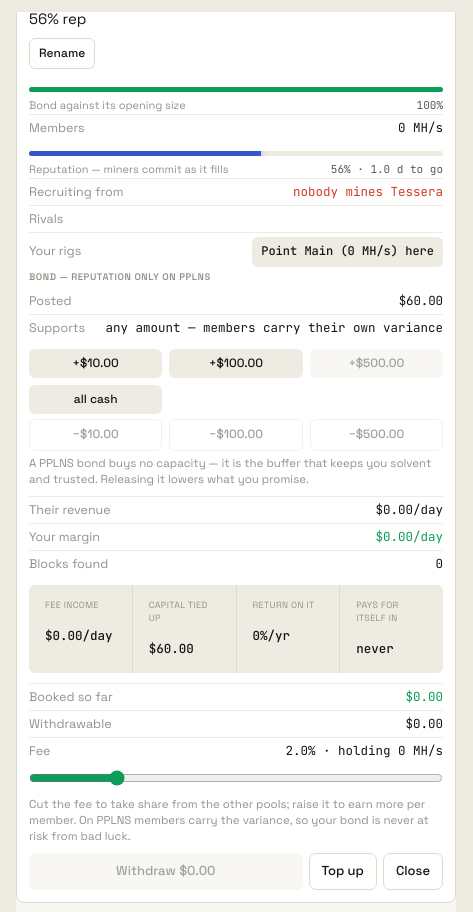
MyPoolCard › drops the fee draft on cancel, leaving the live fee alone
This screenshot has width=473, height=912.
(page scrolled)
Set the slider named "Fee for Your Tessera pool" to "0.08" at (355, 778), box top-left (29, 770), bottom-right (443, 786)
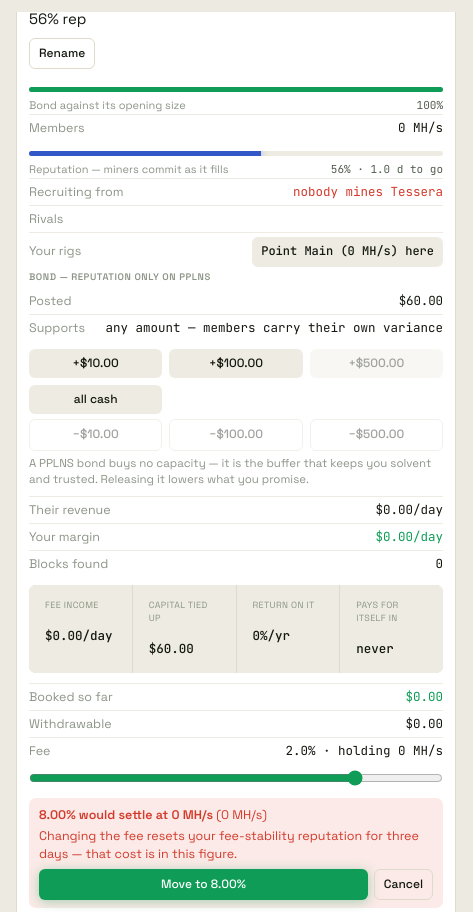
Click the button "Cancel" at (403, 885), box top-left (374, 869), bottom-right (433, 900)
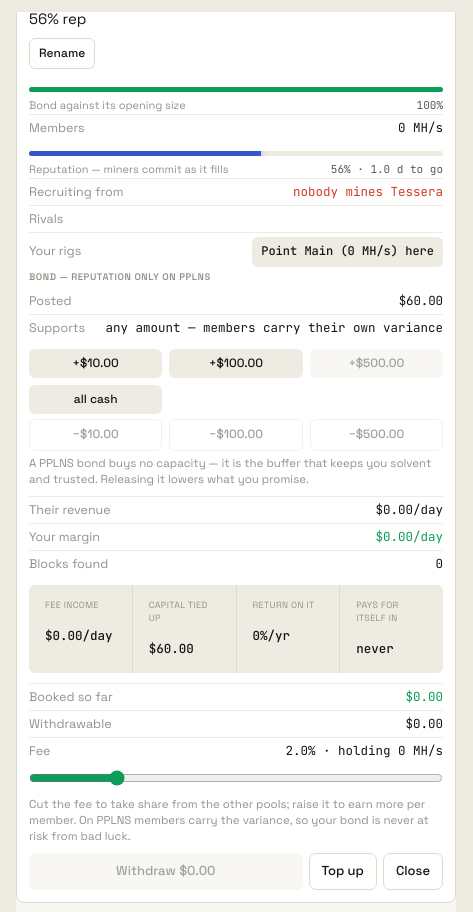
Result: the text "would settle at" is gone
